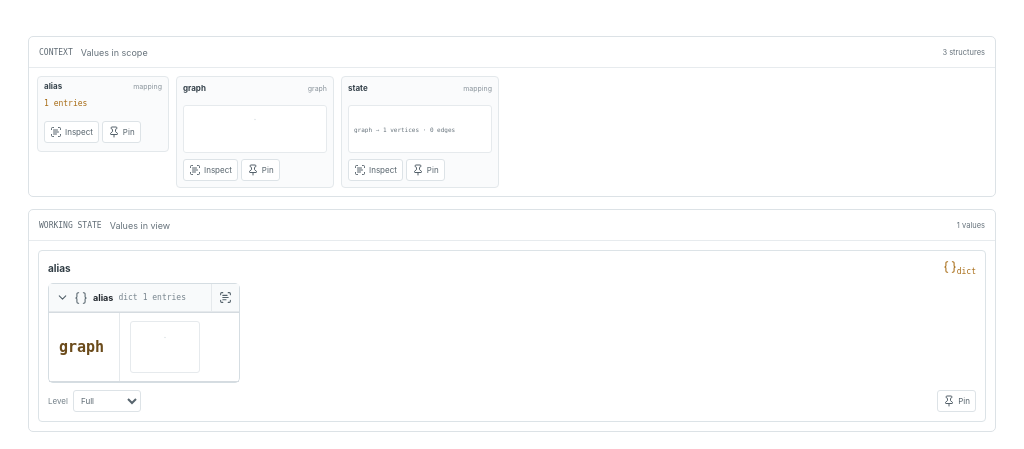
Test: Visualizer primitive operations › resolves an exact detail occurrence before an earlier alias with the same key
Click the button with aria-label "Inspect state" at (375, 170), box [348,159,403,181]
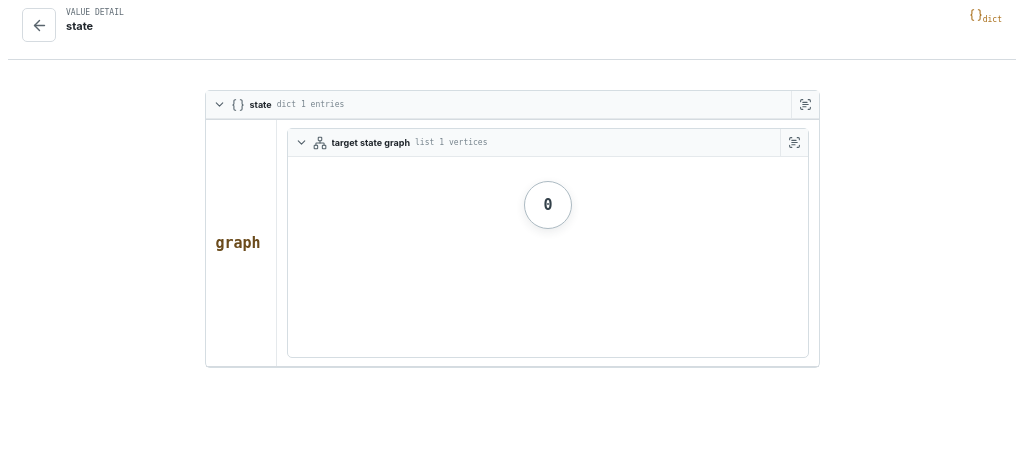
Click the button named "Open details for target state graph" at (794, 142), box [780,129,808,156]
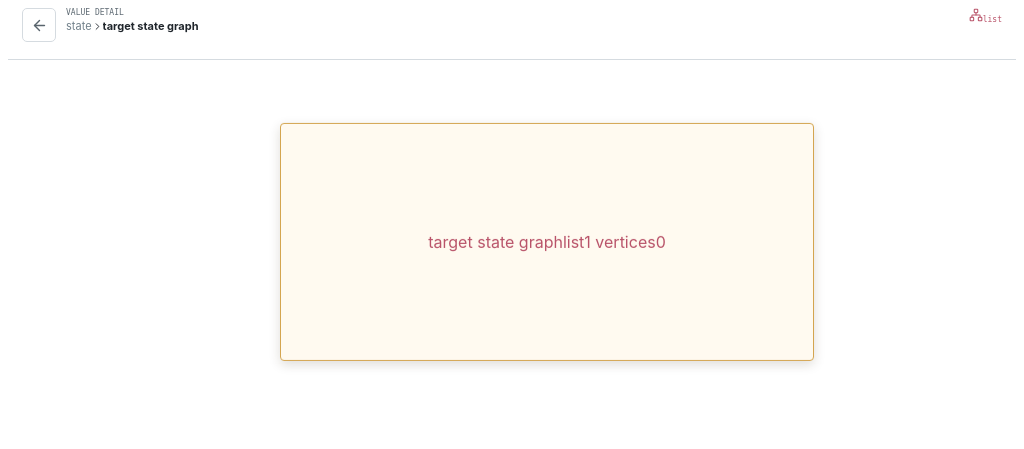
expect the navigation bar named "Value detail path" shows "target state graph": met, box [102,19,198,33]
